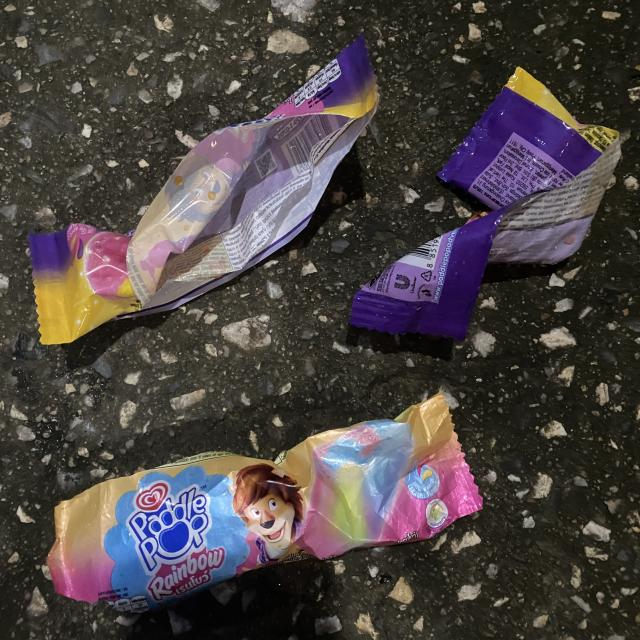plastik: (31, 36, 379, 344), (48, 394, 482, 612), (350, 68, 621, 340)
